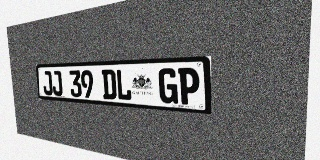3: (69, 70, 82, 97)
9: (80, 70, 94, 98)
D: (102, 69, 117, 100)
G: (158, 68, 178, 104)
J: (51, 71, 63, 96), (42, 71, 53, 95)
L: (116, 69, 132, 101)
P: (178, 67, 200, 105)
